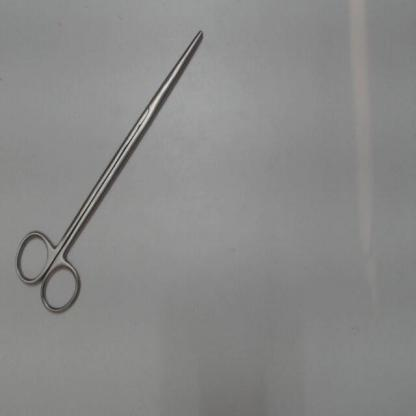9 Metzenbaum Scissors: (10, 24, 211, 324)
